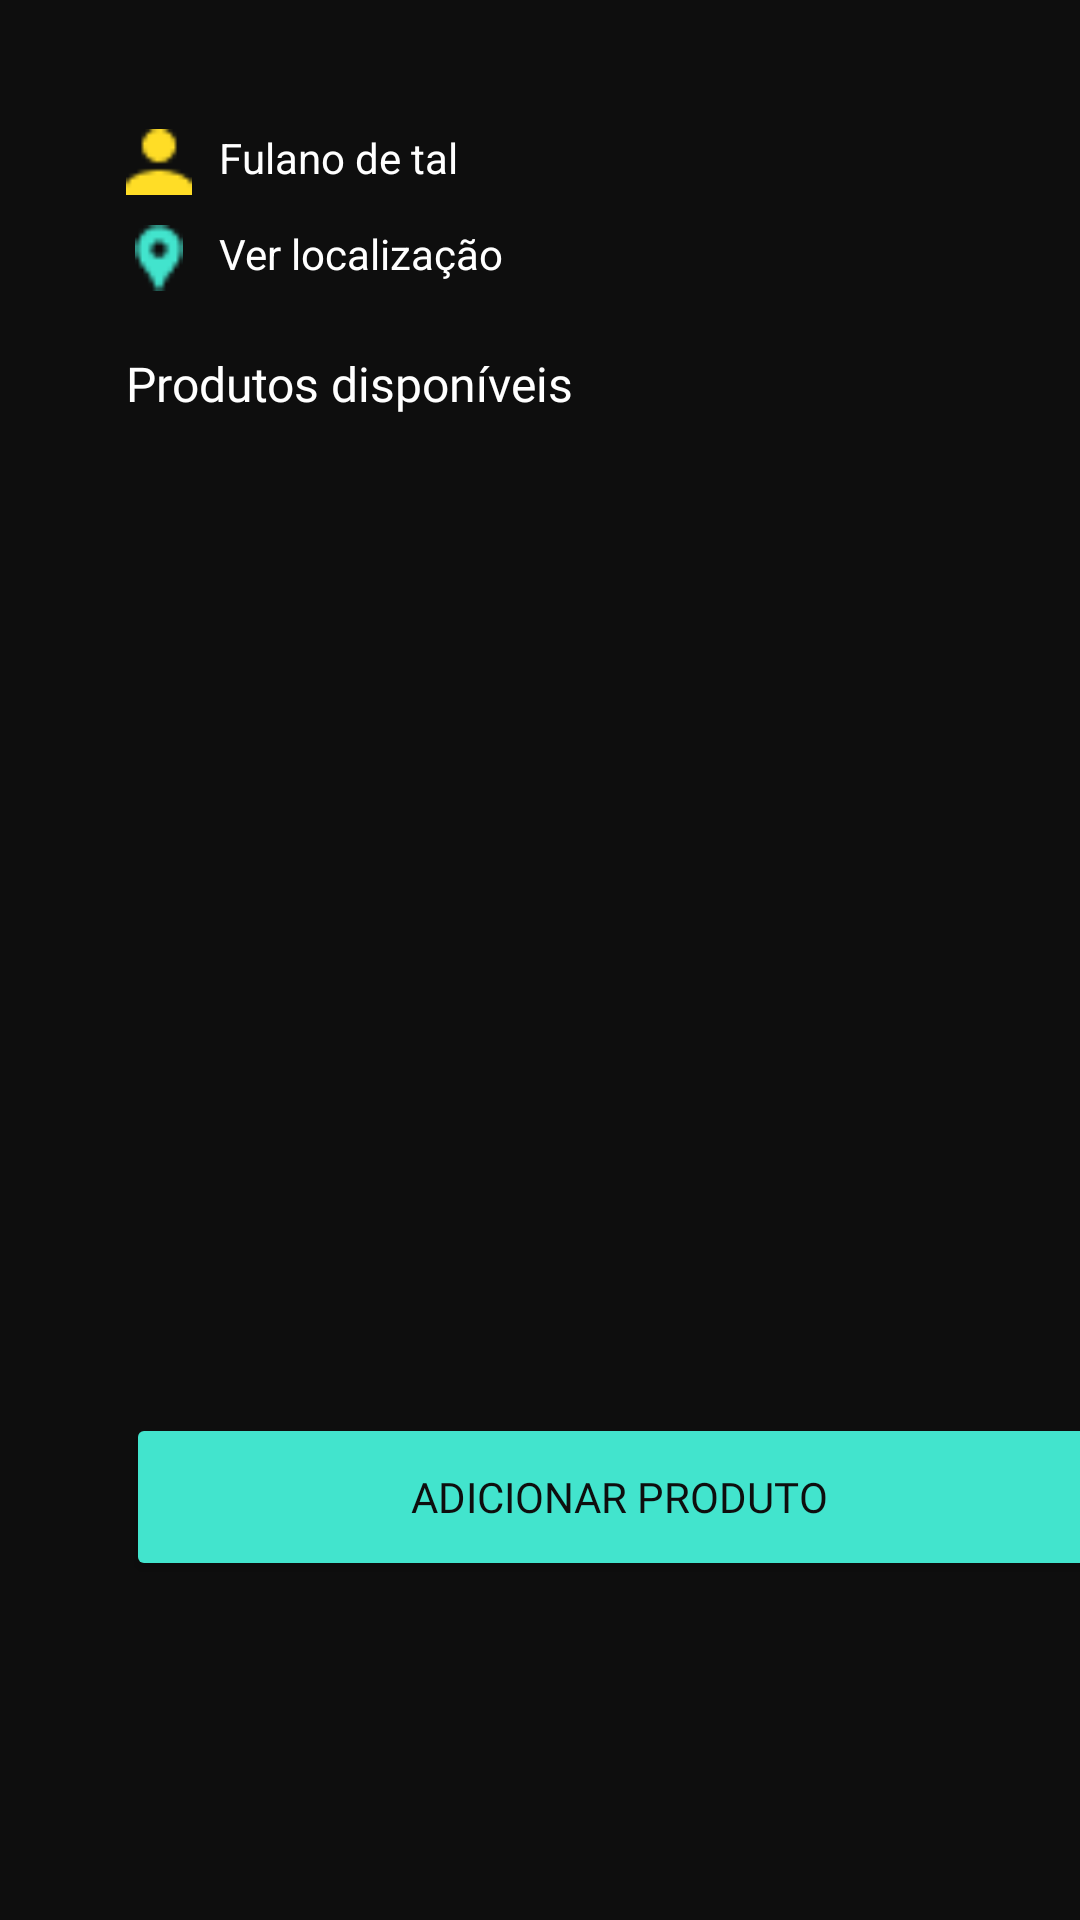

Screen size 1080w x 1920h. Icon name, then its center in pixels as point (x, y):
perfil: point (159, 162)
pin: point (159, 258)
